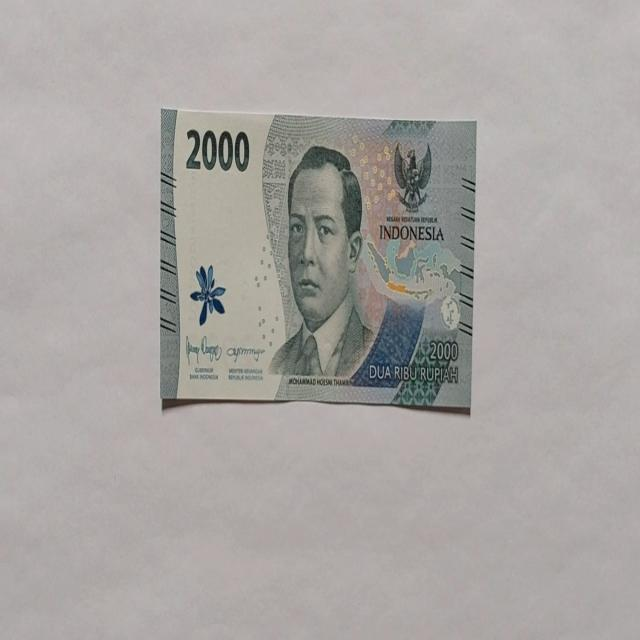dua ribu rupiah: (160, 106, 476, 410), (268, 144, 377, 380)
